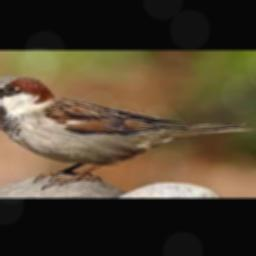Sparrow: (0, 75, 255, 188)
